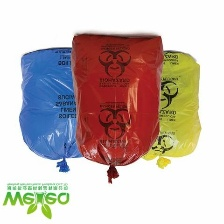plastic_bag: (65, 26, 167, 193), (128, 45, 207, 174), (16, 41, 83, 176)
